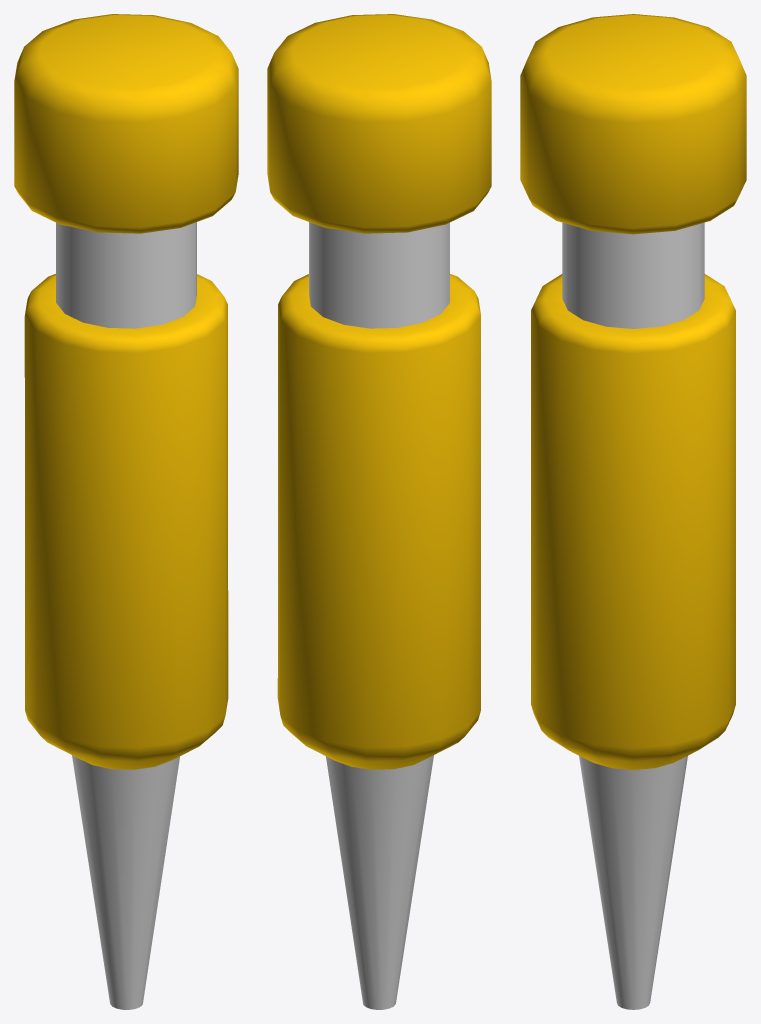
Rendered from DecorMachine_Pastry_MachineLines.FBX.
3 views of the same model, side by side, from view 1: azimuth 30°, elevation 25°; view 2: azimuth 150°, elevation 25°; view 3: azimuth 270°, elevation 25° (orthographic).
Parts seen in each view (by area): view 1: DecorMachine_Pastry_MachineLines; view 2: DecorMachine_Pastry_MachineLines; view 3: DecorMachine_Pastry_MachineLines.
Boxes of the visible parts, <box> form: DecorMachine_Pastry_MachineLines: <box>14,14,238,1009</box>; DecorMachine_Pastry_MachineLines: <box>267,14,491,1009</box>; DecorMachine_Pastry_MachineLines: <box>520,14,746,1009</box>.
Bounding box in the file's own units: 1065 × 4933 × 1064.
